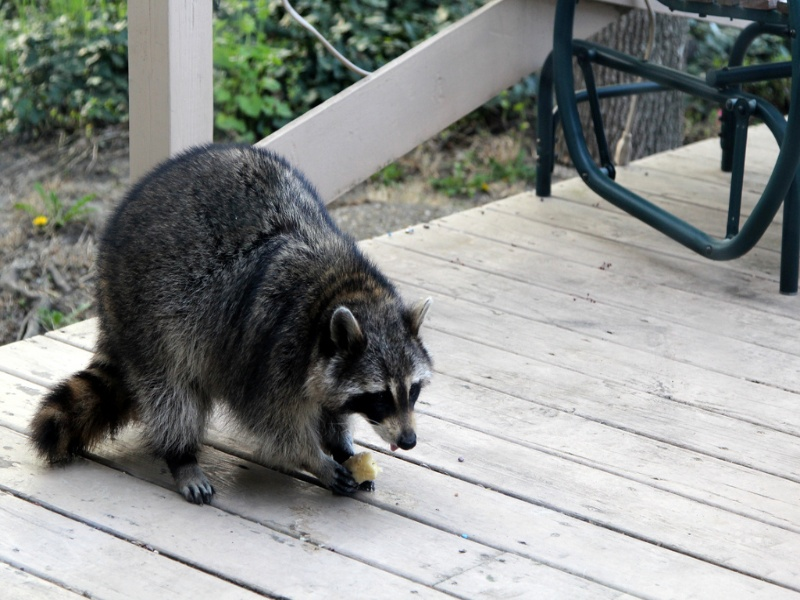raccoon: (24, 141, 436, 506)
